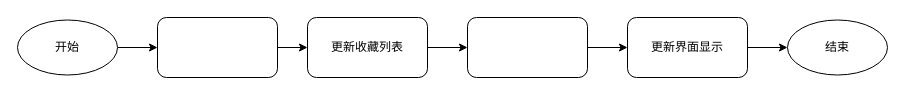
Some shapes in this 905 by 95 pixel diagram are drawn without their labels. Each missing label, with the centre of its shape:
"保存收藏记录" goes at point 527,47.
"点击收藏按钮" goes at point 217,47.
